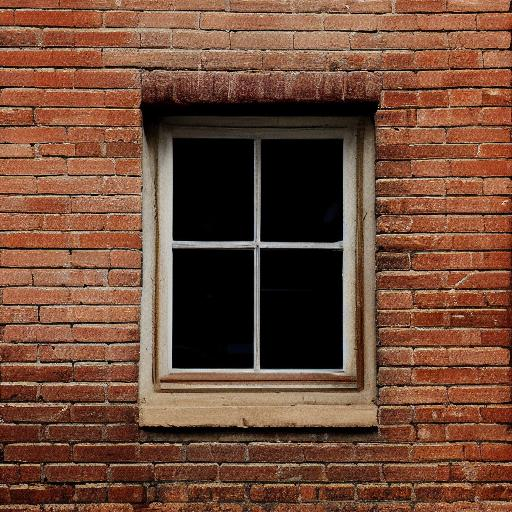Window: (133, 97, 384, 432)
